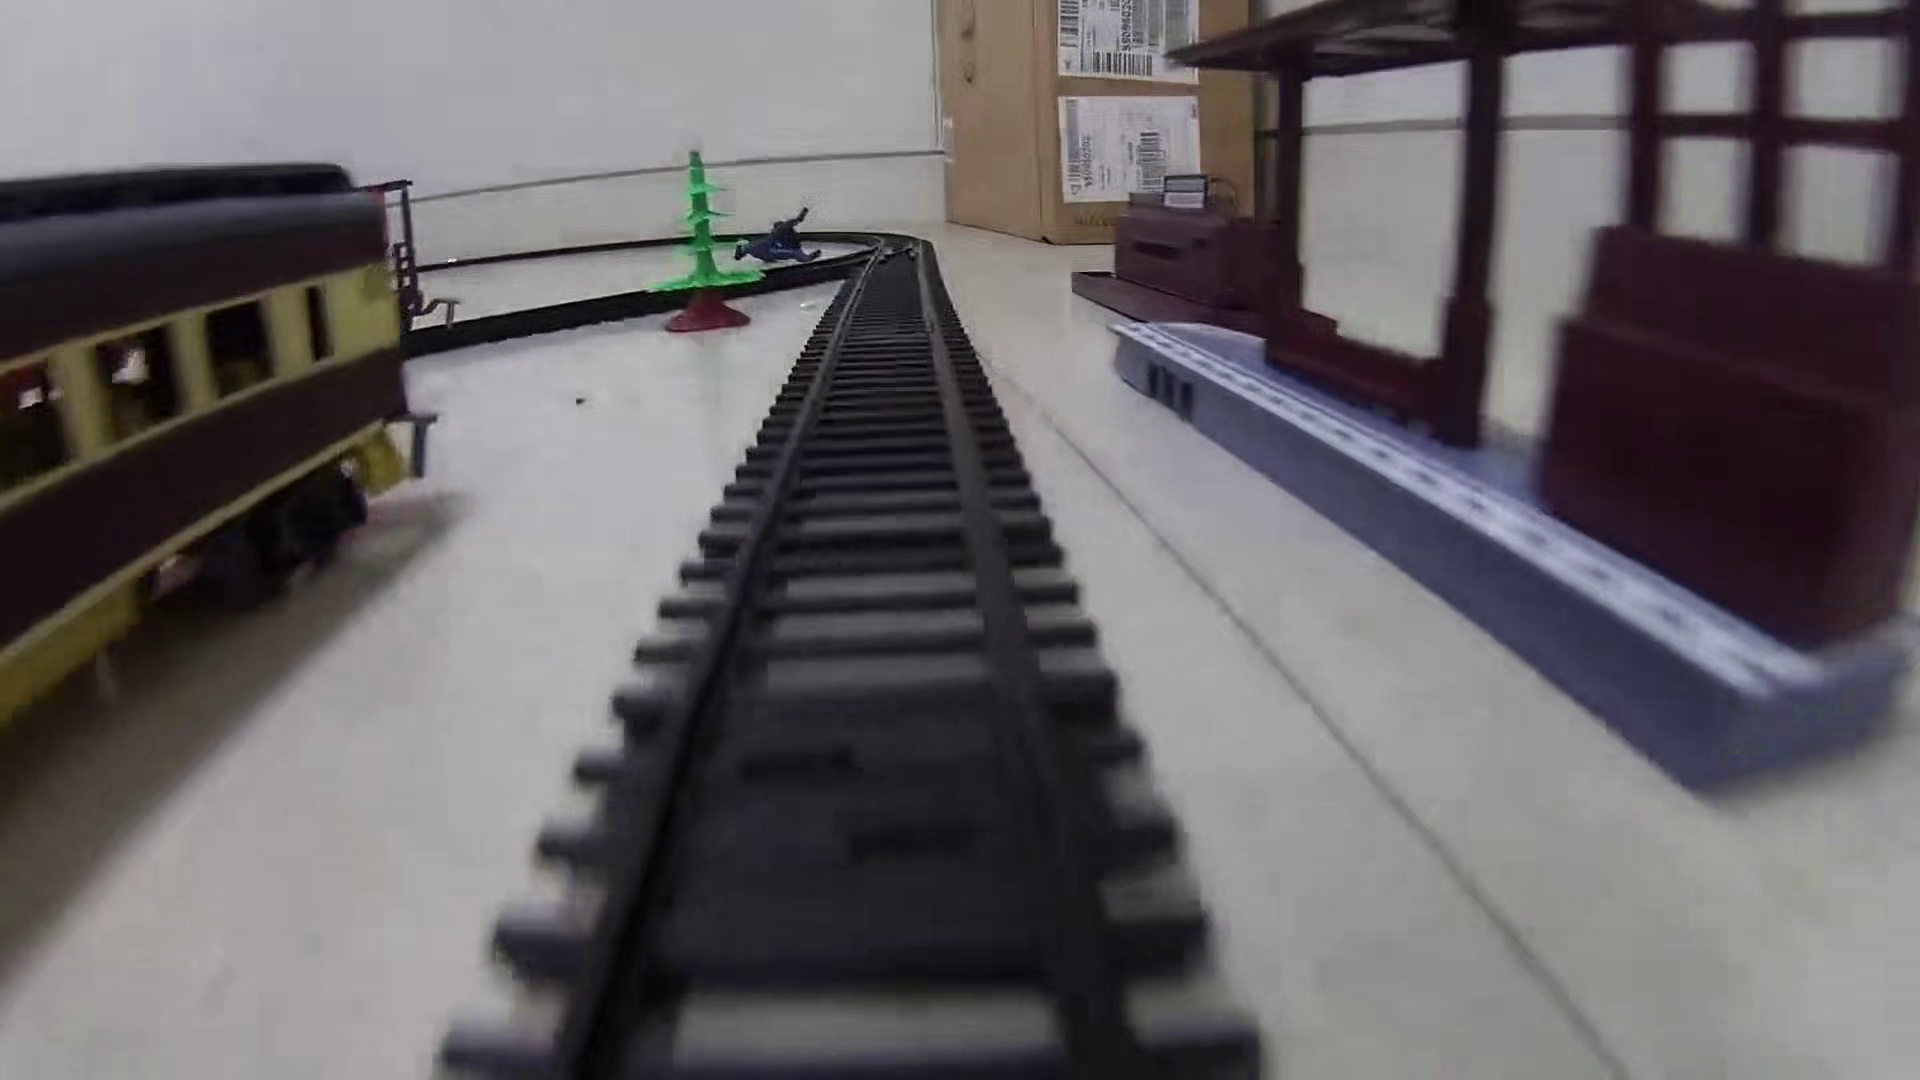people: (730, 206, 823, 267)
tree: (649, 150, 769, 332)
